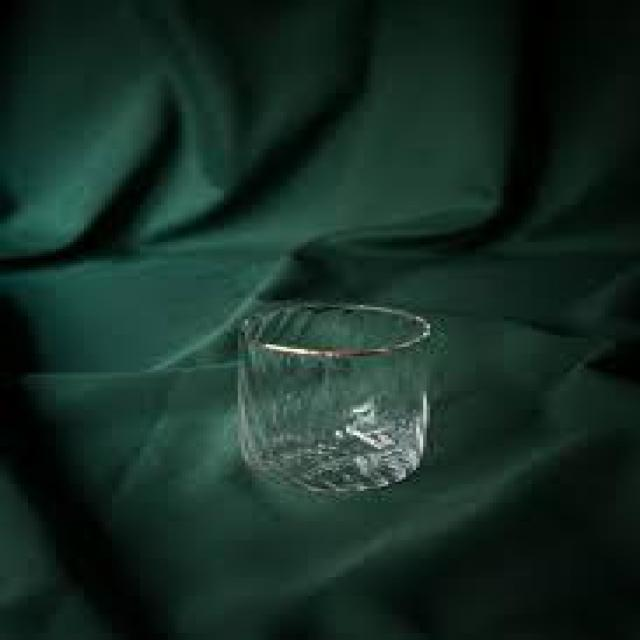non-organic waste: (236, 304, 439, 492)
